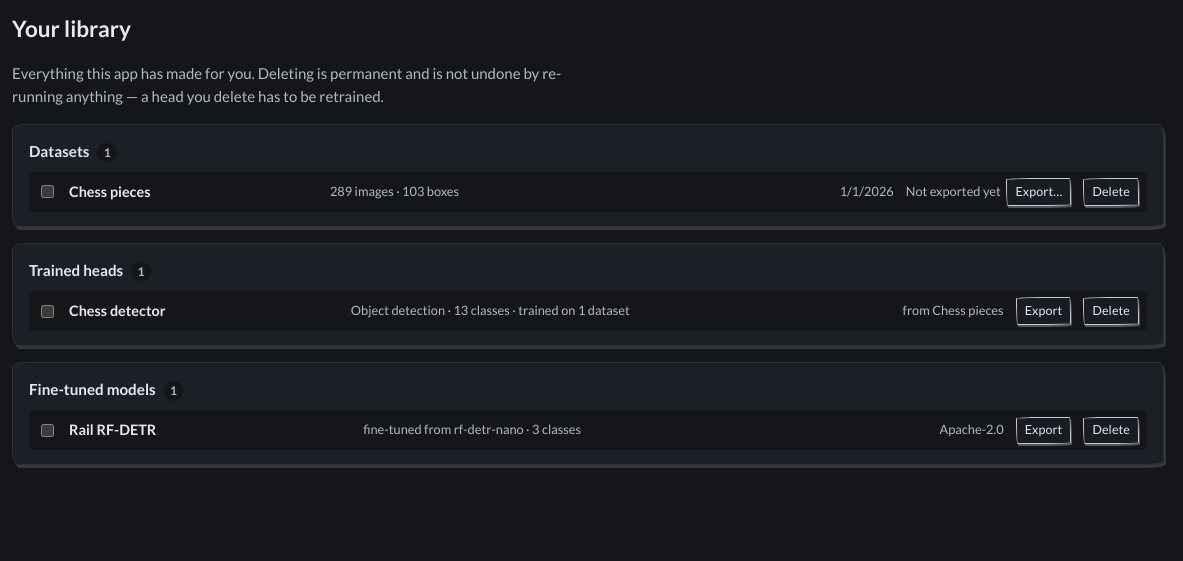
deleting › says so and re-reads when the delete fails
This screenshot has width=1183, height=561.
Click the button with aria-label "Delete Chess pieces" at (1111, 192), box [1083, 178, 1139, 206]
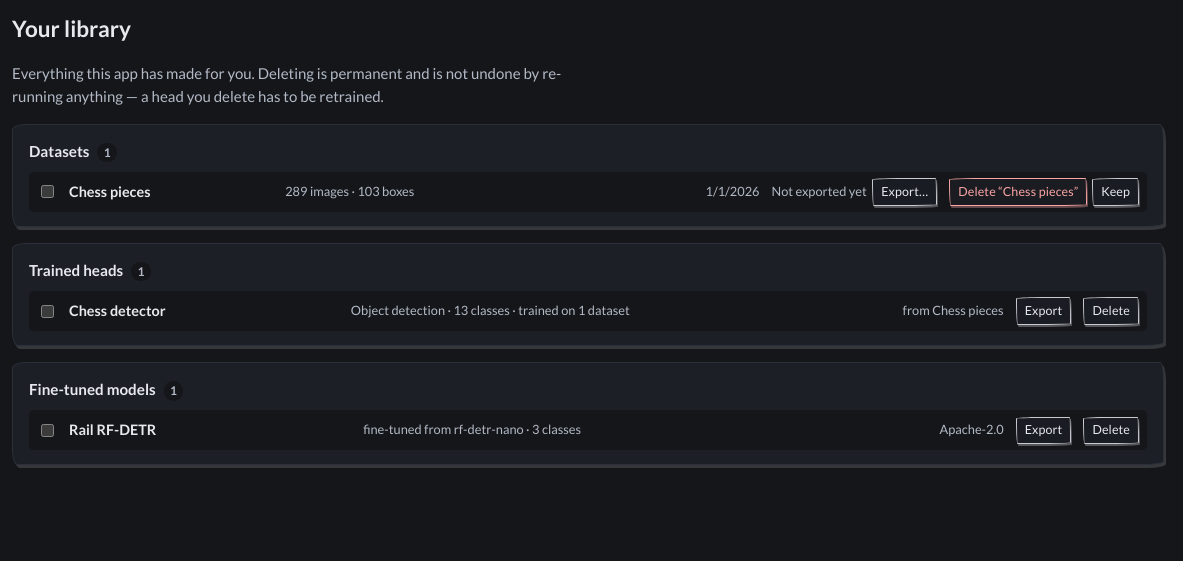
Click the button "Delete “Chess pieces”" at (1018, 192), box [949, 178, 1088, 206]
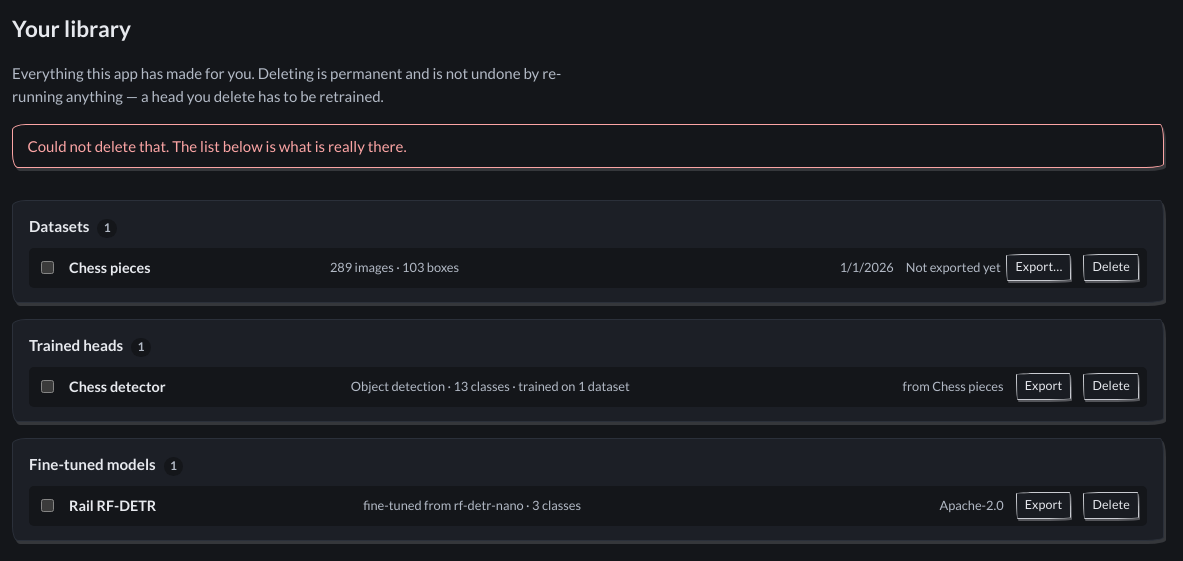
Expected: the message shows "what is really there", [27, 137, 407, 155]
